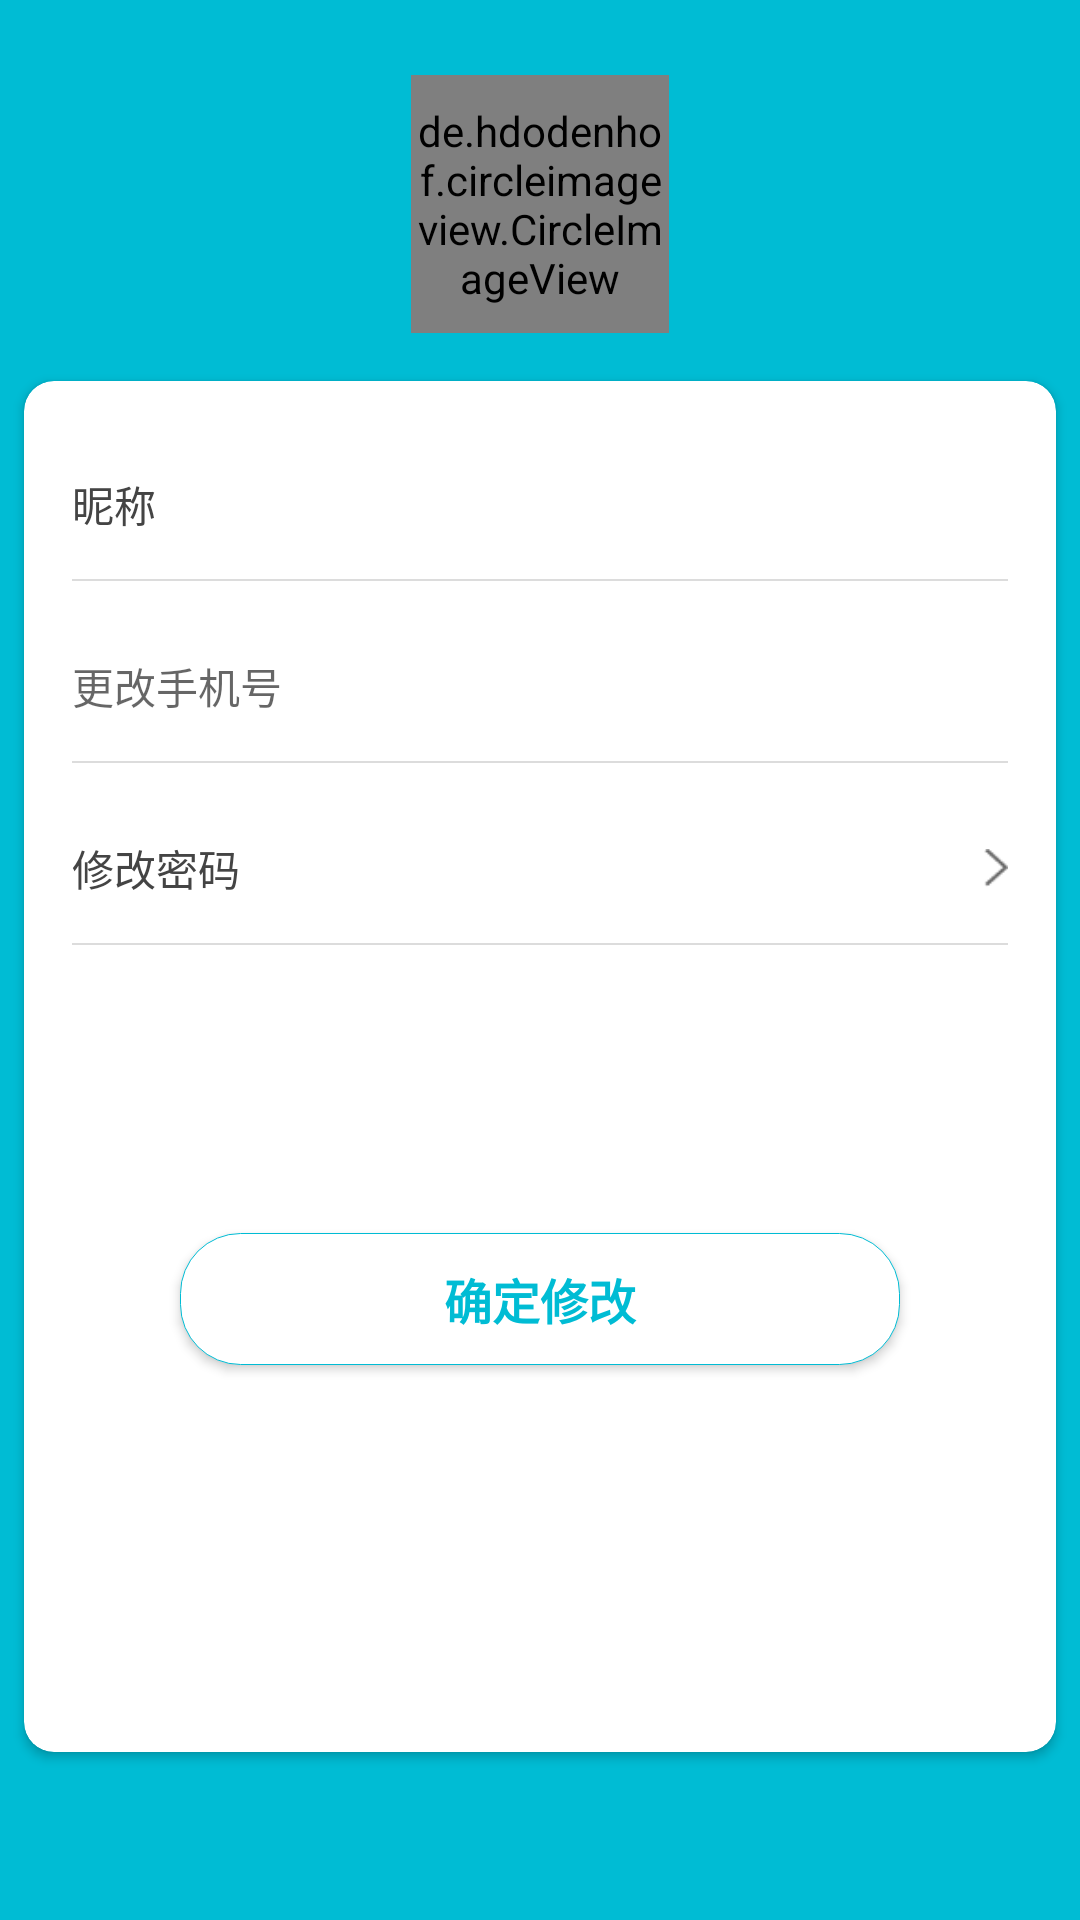

Screen size 1080px x 1920px. Icon name, then its center in pixels as [x,y]:
me go: [996,867]
